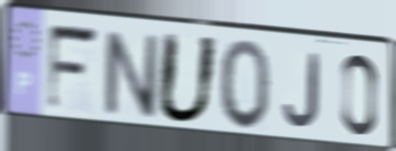0: (339, 51, 379, 139)
F: (45, 21, 102, 116)
J: (281, 50, 322, 131)
N: (101, 27, 160, 122)
O: (217, 36, 272, 134)
U: (154, 29, 222, 127)
